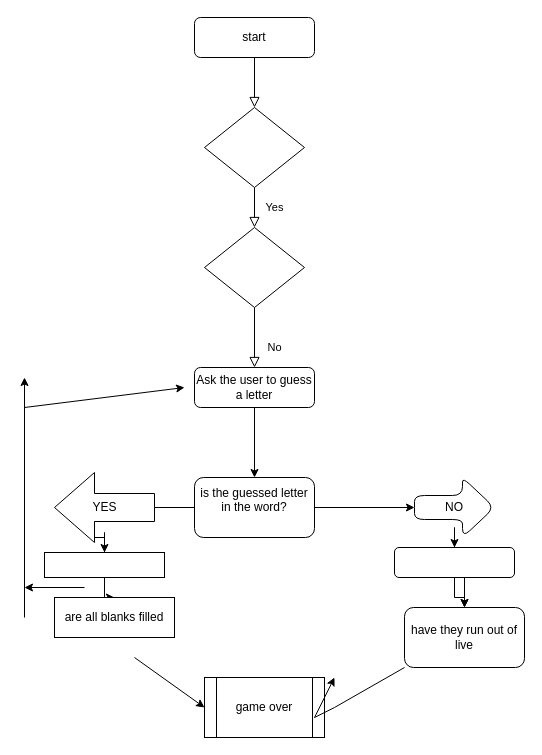
Some shapes in this 542 by 755 pixel diagram are drawn without their labels. The shapes that lost their labels are listed below. From the top down, each one's centre as x and y in pixels, then its label:
At point 254,147: "generate a random word".
At point 254,267: "generate as many blanks as the word".
At point 104,565: "print the gussed letter in place of blank".
At point 454,562: "Lose a life".
